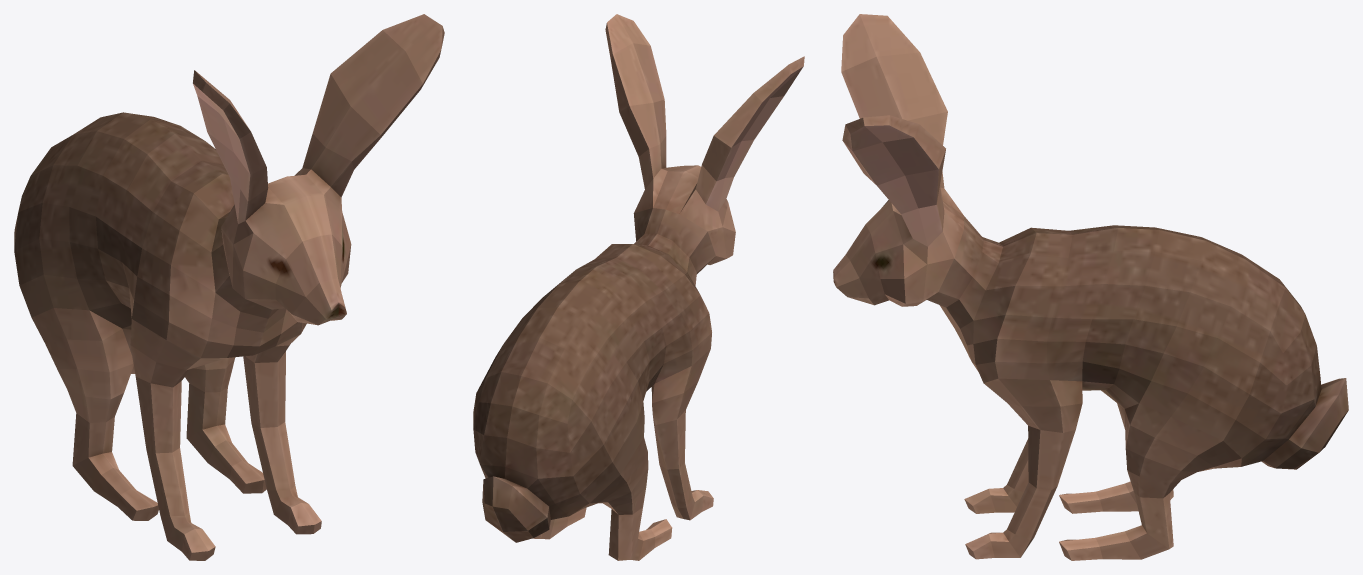
The model's file is animals-jackrabbit-132.glb.
3 views of the same model, side by side, from view 1: azimuth 30°, elevation 25°; view 2: azimuth 150°, elevation 25°; view 3: azimuth 270°, elevation 25° (orthographic). The views are drawn at different scales.
Visible parts, largest first — view 1: JackRabbit_mesh; view 2: JackRabbit_mesh; view 3: JackRabbit_mesh.
Boxes of the visible parts, left/top/right/bottom form: JackRabbit_mesh: left=14, top=14, right=444, bottom=560; JackRabbit_mesh: left=473, top=14, right=804, bottom=560; JackRabbit_mesh: left=833, top=14, right=1348, bottom=560.
Size of the model in its own units: 3.29 by 7 by 6.98.
Materials: 1 (1 with a texture image).
